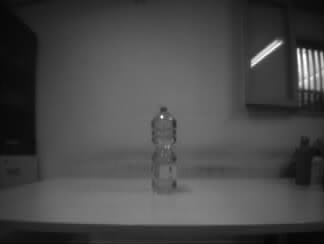Bottle: (148, 104, 180, 198)
